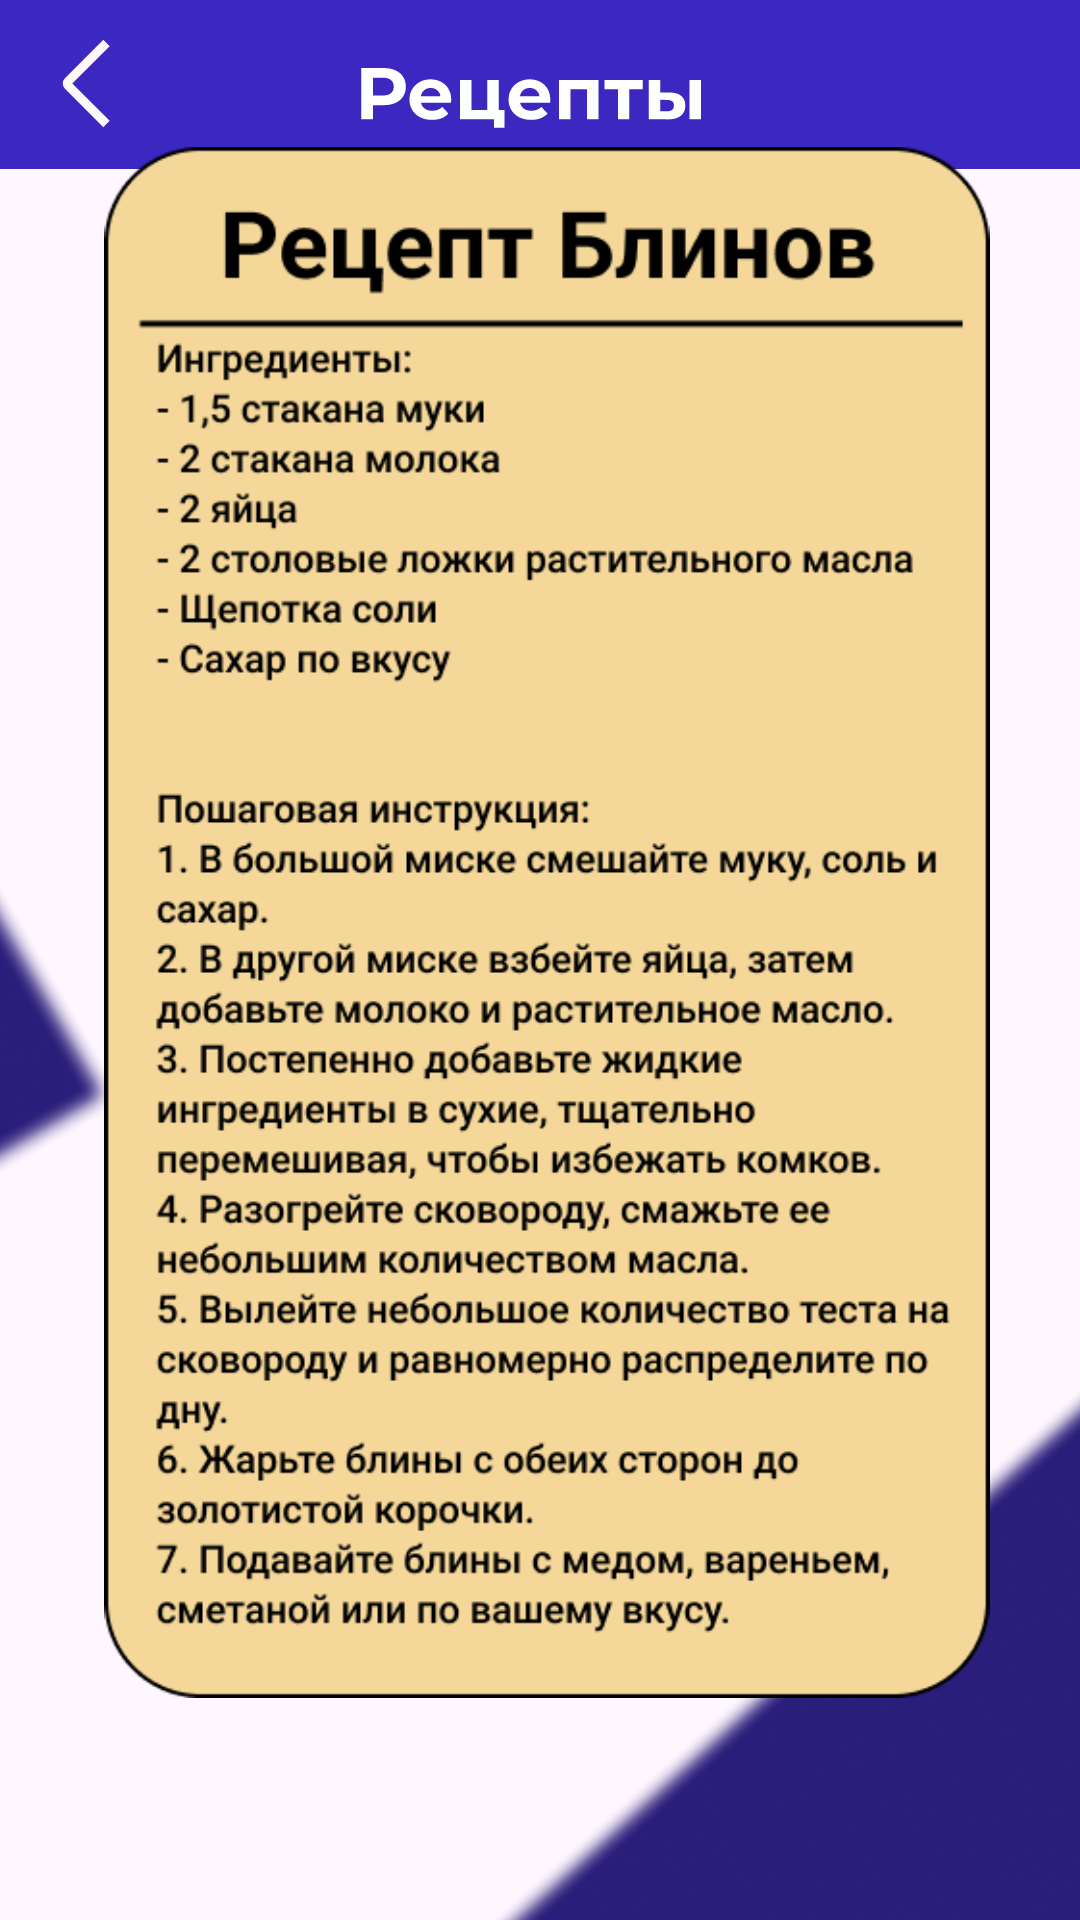

Point at icon controls on the screen. Image size 1080px x 1920px, points as (x,y).
deviceback: (86,83)
